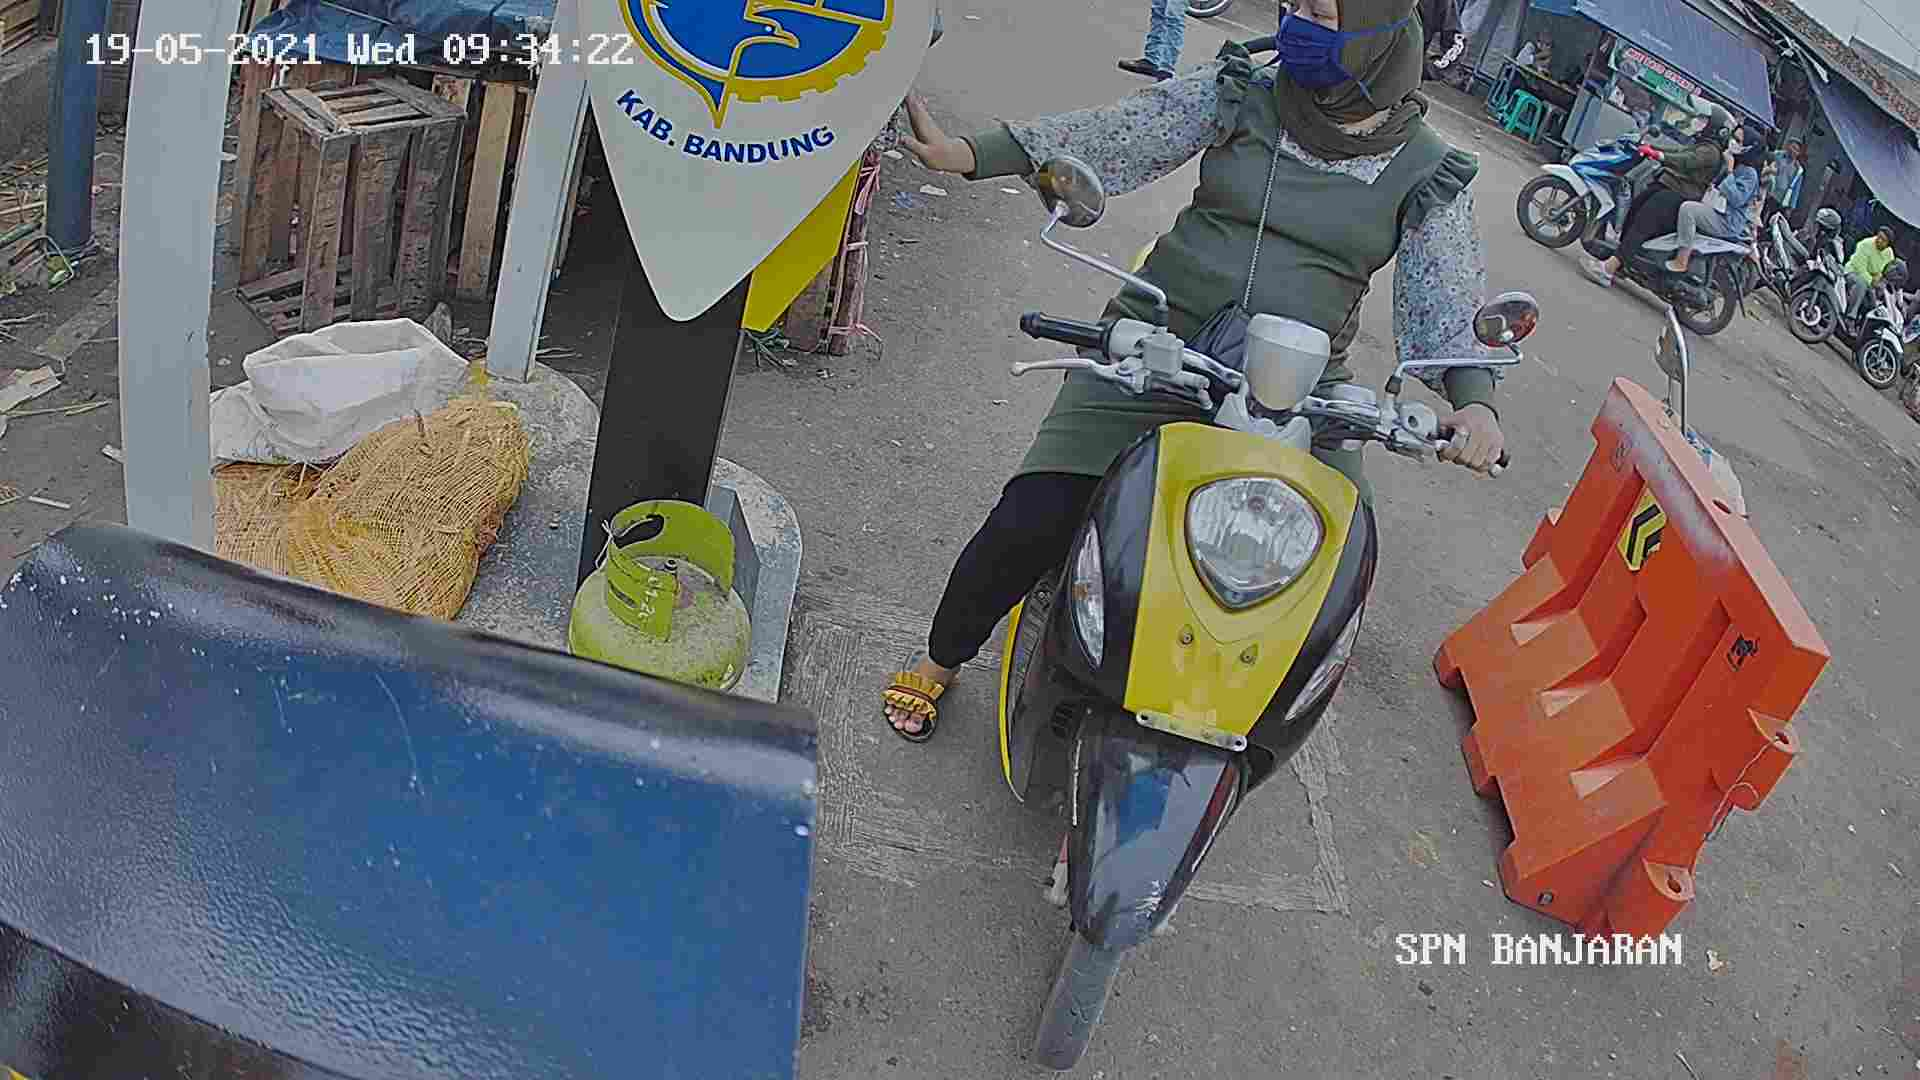motor: (930, 284, 1449, 1080)
